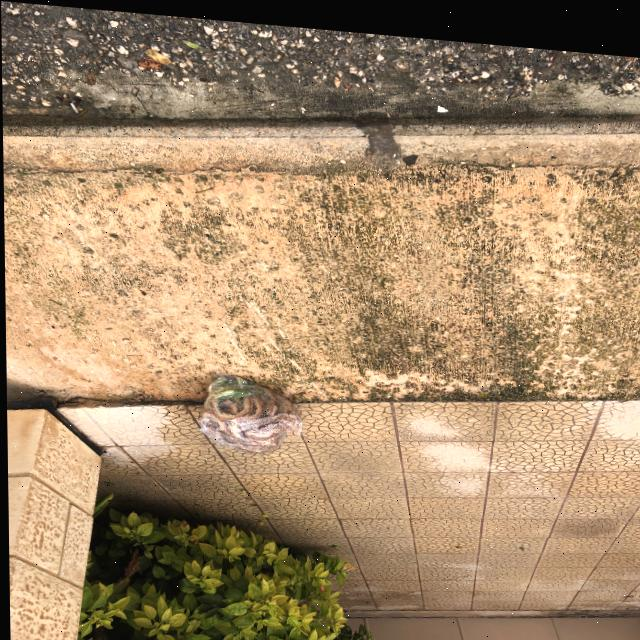Organic Waste -White Bag-: (192, 366, 309, 463)
